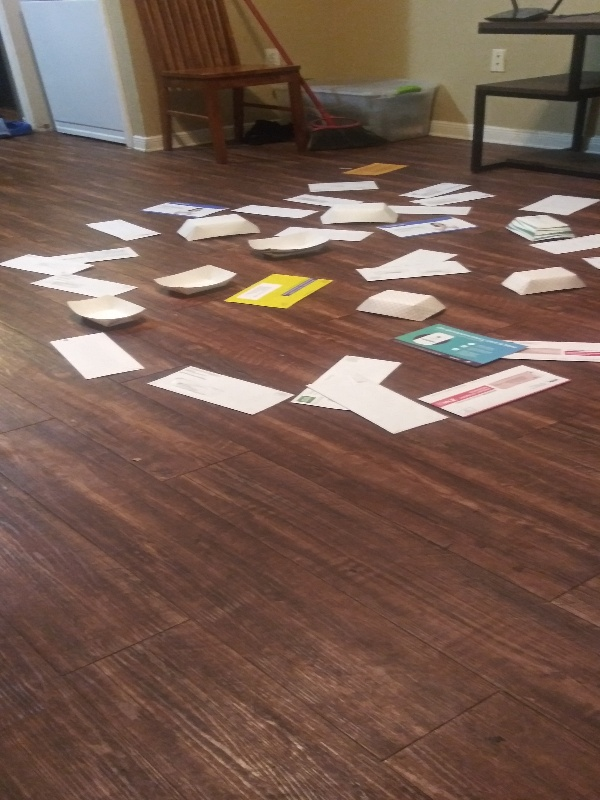plate: (351, 287, 451, 324), (148, 263, 241, 302), (64, 291, 151, 331), (497, 265, 588, 301), (175, 213, 266, 245), (245, 230, 338, 260), (315, 200, 403, 228), (501, 212, 576, 244)
